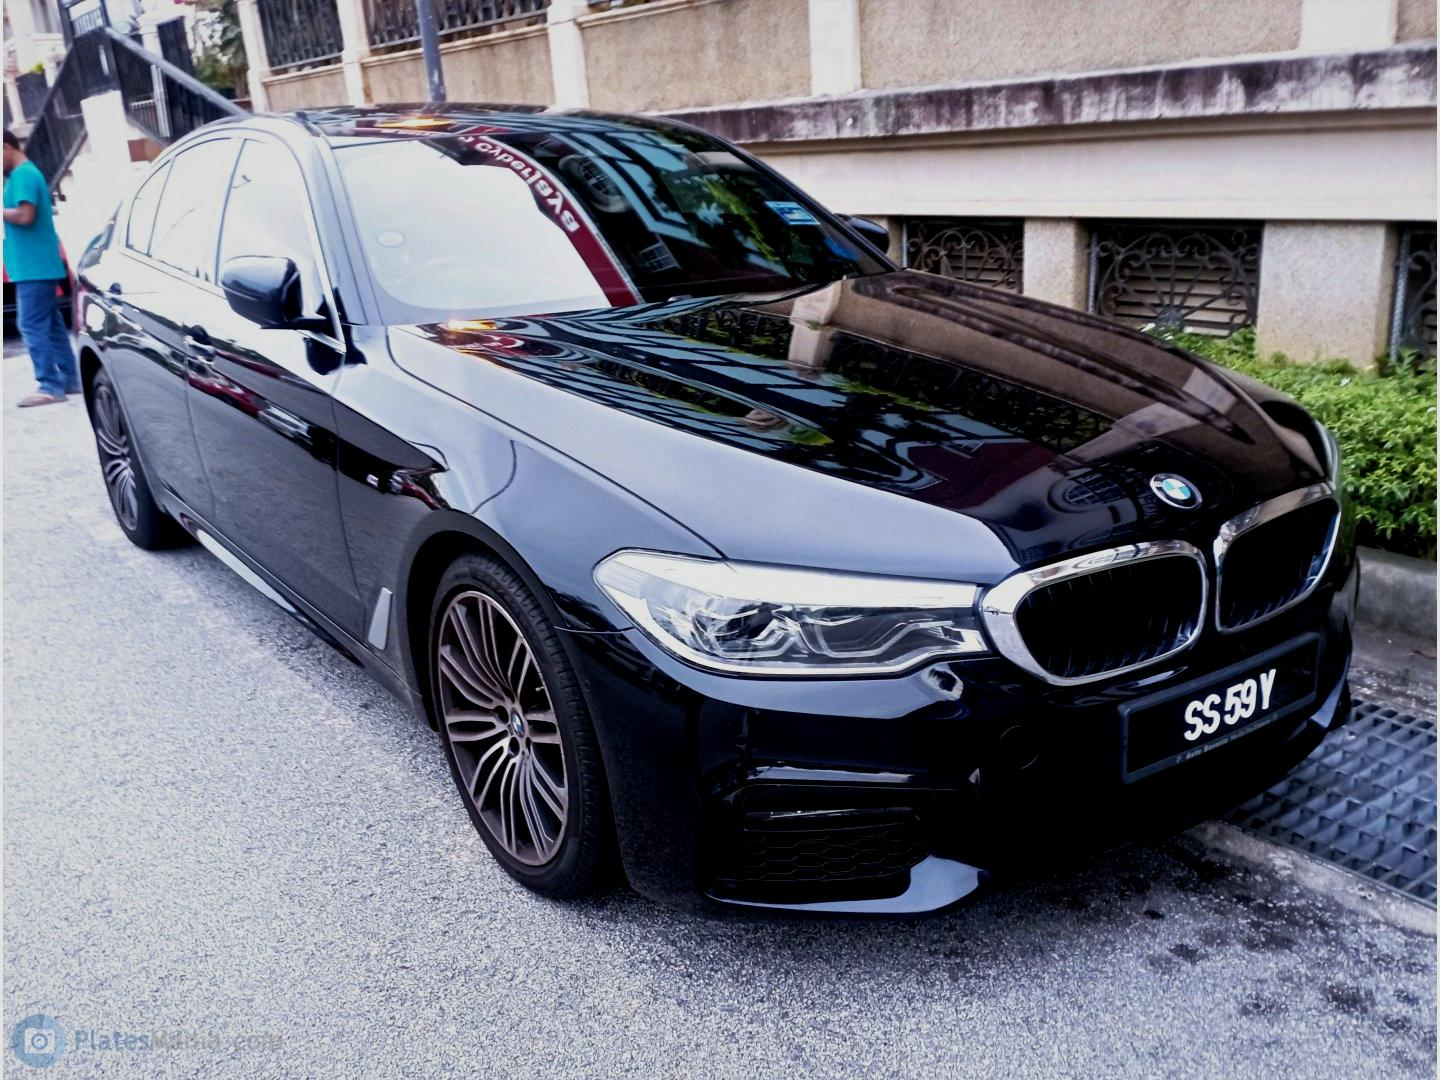License Plate: (1136, 639, 1321, 774)
